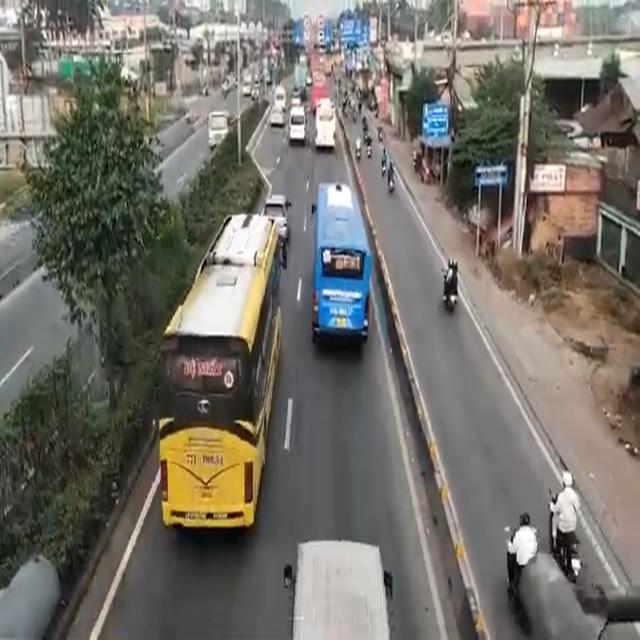bus: (160, 224, 277, 536), (314, 180, 371, 347), (314, 103, 338, 153)
car: (297, 524, 388, 640), (261, 192, 287, 228), (288, 107, 306, 148)
motor: (550, 488, 580, 582), (505, 534, 527, 619), (436, 255, 458, 312)
truck: (205, 110, 232, 146), (310, 50, 327, 103)
